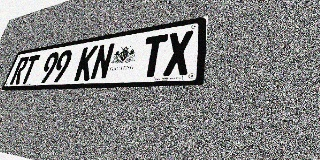9: (50, 49, 74, 82), (38, 51, 61, 83)
K: (73, 45, 99, 81)
N: (89, 42, 115, 80)
R: (9, 56, 30, 85)
T: (139, 34, 168, 78), (19, 54, 40, 84)
X: (163, 30, 193, 76)
